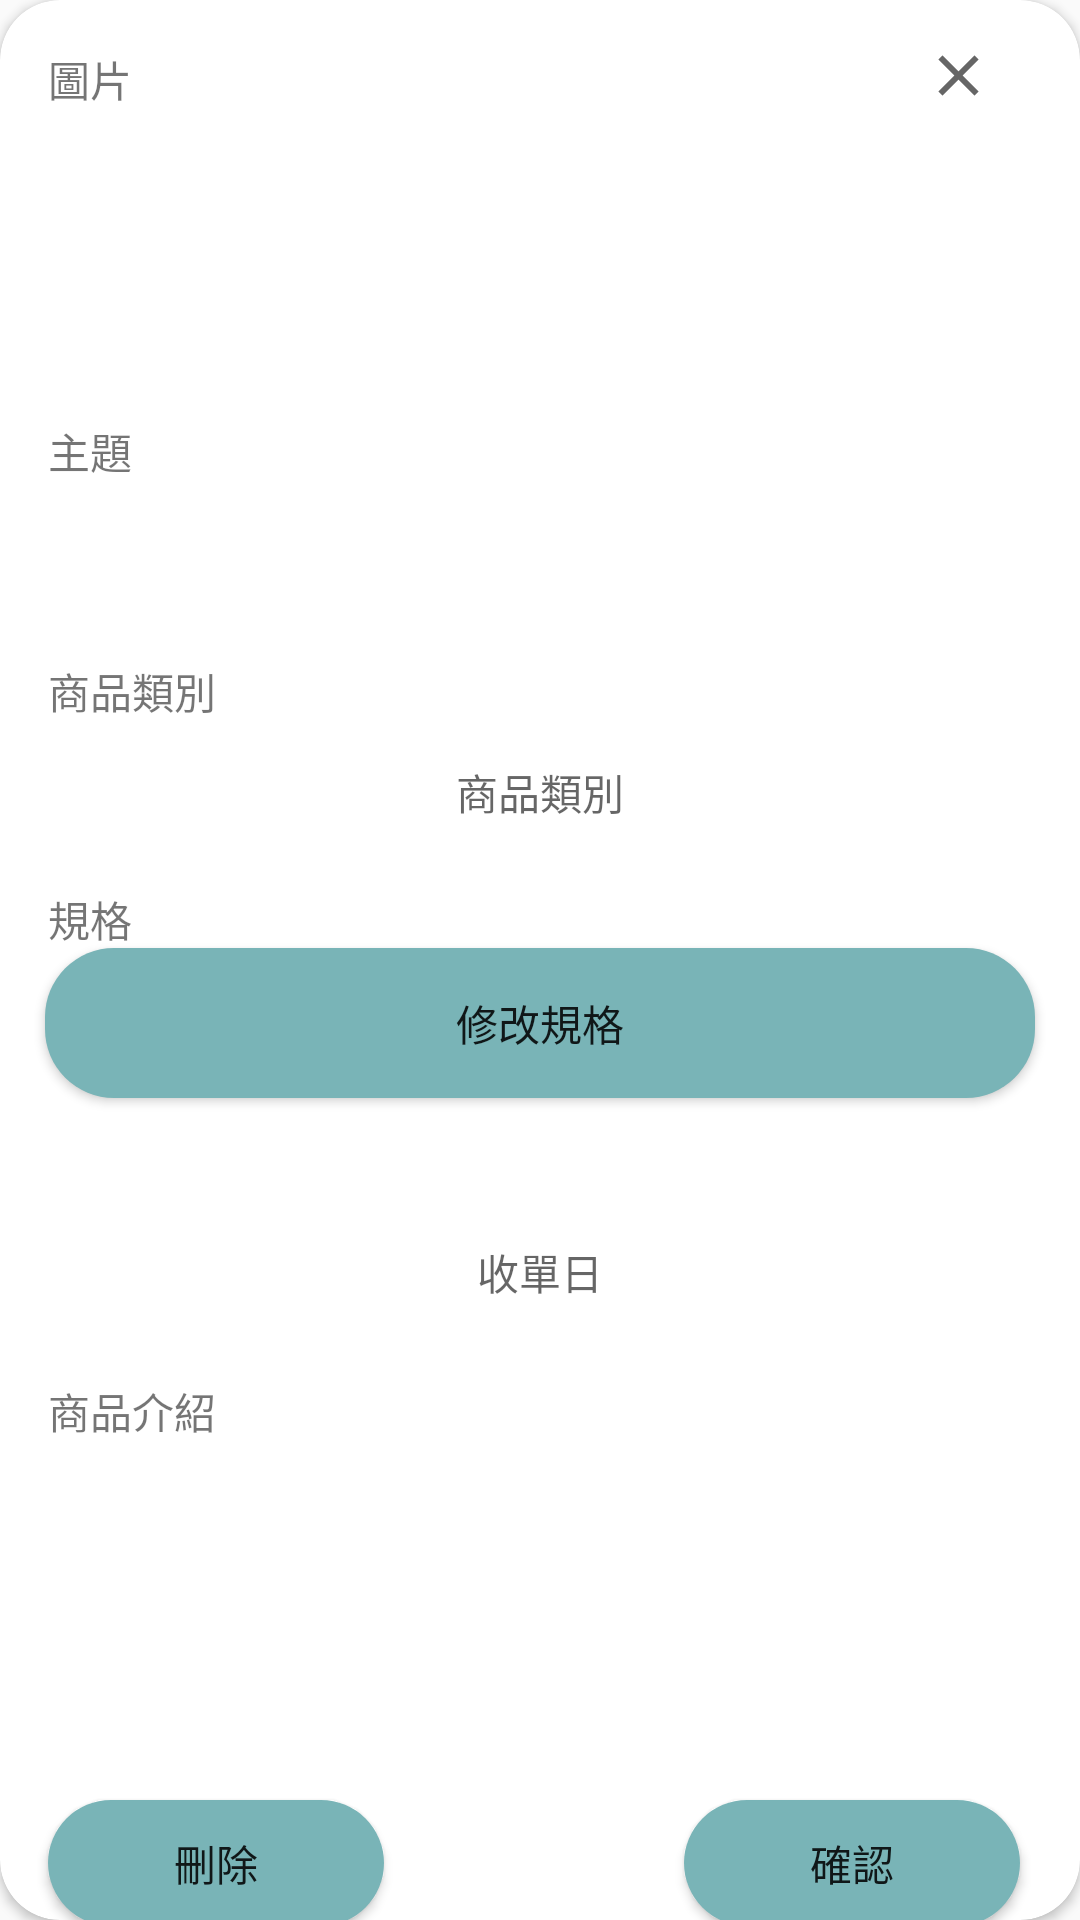

Icons on this 1080x1920 Android screen, each with its box as (x1,y1,x2,y2):
close: (938,55,979,96)
